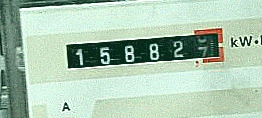1: (72, 45, 85, 65)
2: (171, 37, 184, 57)
5: (97, 44, 110, 64)
7: (196, 43, 208, 58)
8: (122, 41, 135, 63), (147, 40, 160, 61)
screen: (56, 21, 233, 76)
